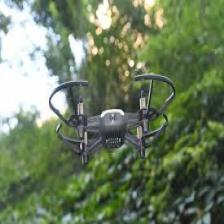drone: (49, 75, 176, 160)
